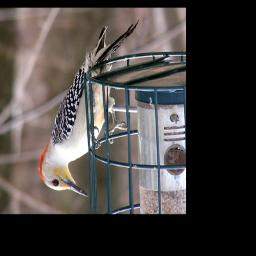Woodpecker: (36, 19, 140, 200)
